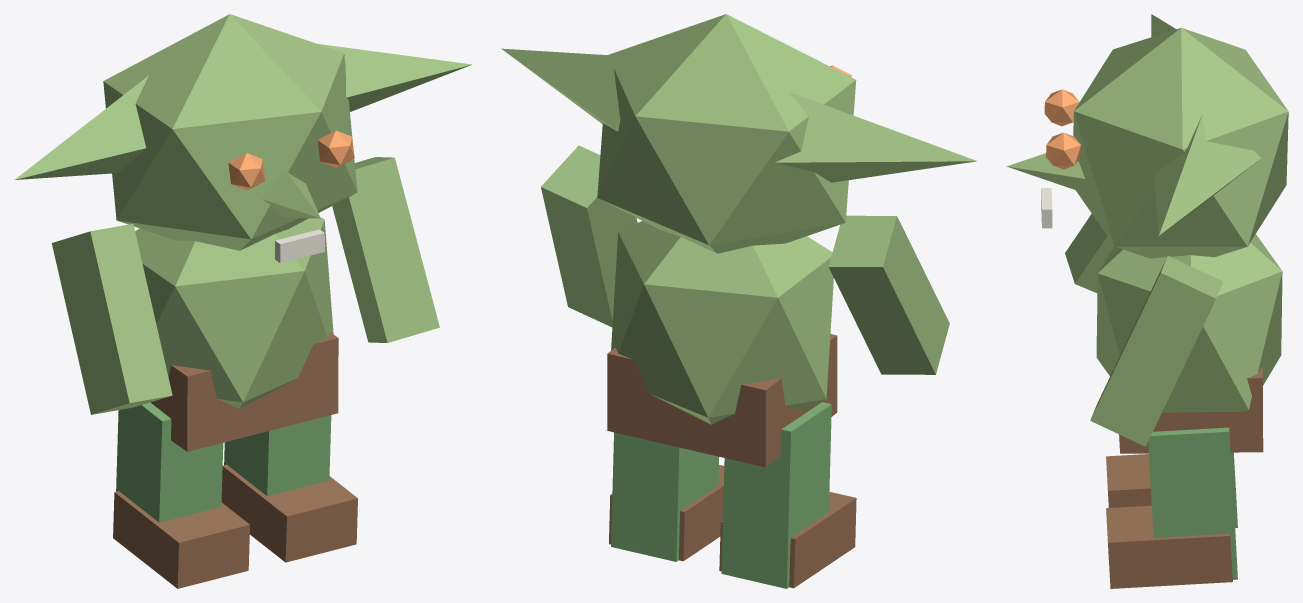
The model's file is npcpose_goblin_attack_10.glb.
3 views of the same model, side by side, from view 1: azimuth 30°, elevation 25°; view 2: azimuth 150°, elevation 25°; view 3: azimuth 270°, elevation 25° (orthographic). The views are drawn at different scales.
Visible parts, largest first — view 1: npcpose; view 2: npcpose; view 3: npcpose.
Part boxes in pixels (x1=…): npcpose: x1=15, y1=14, x2=471, y2=588; npcpose: x1=501, y1=14, x2=977, y2=588; npcpose: x1=1006, y1=14, x2=1288, y2=588.
Bounding box in the file's own units: 1.03 × 1.12 × 0.5524.
